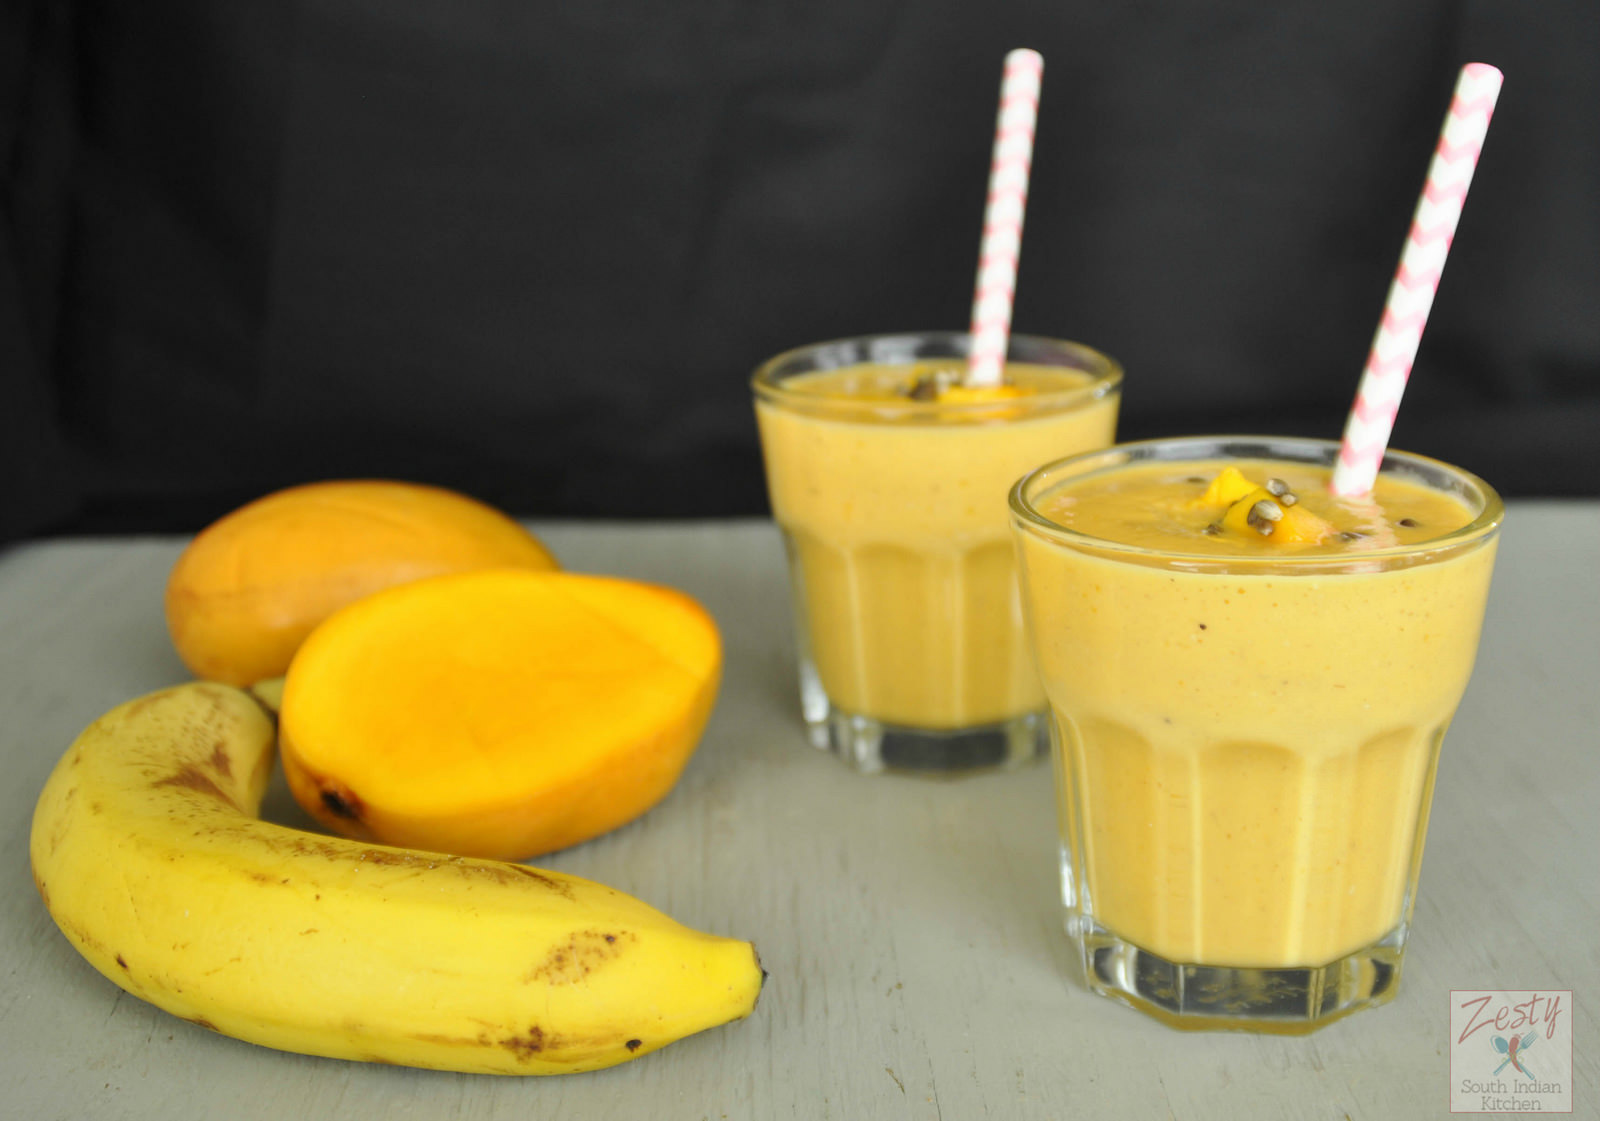mango: (261, 568, 756, 809), (171, 462, 558, 584)
